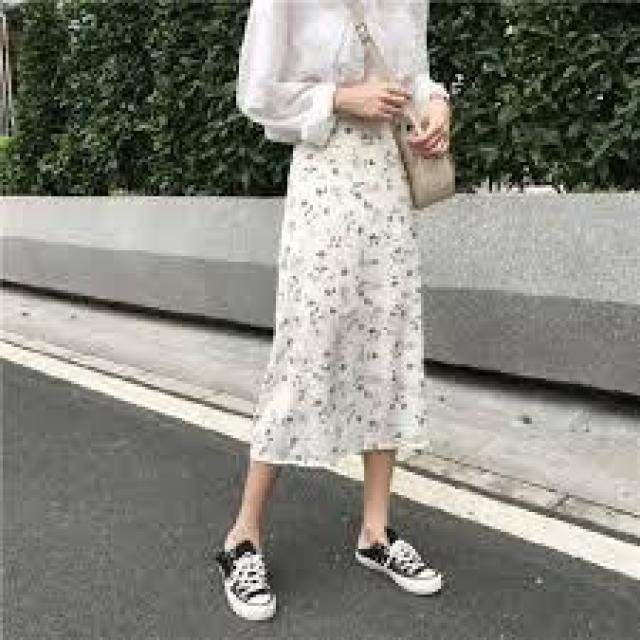skirt: (246, 110, 434, 480)
